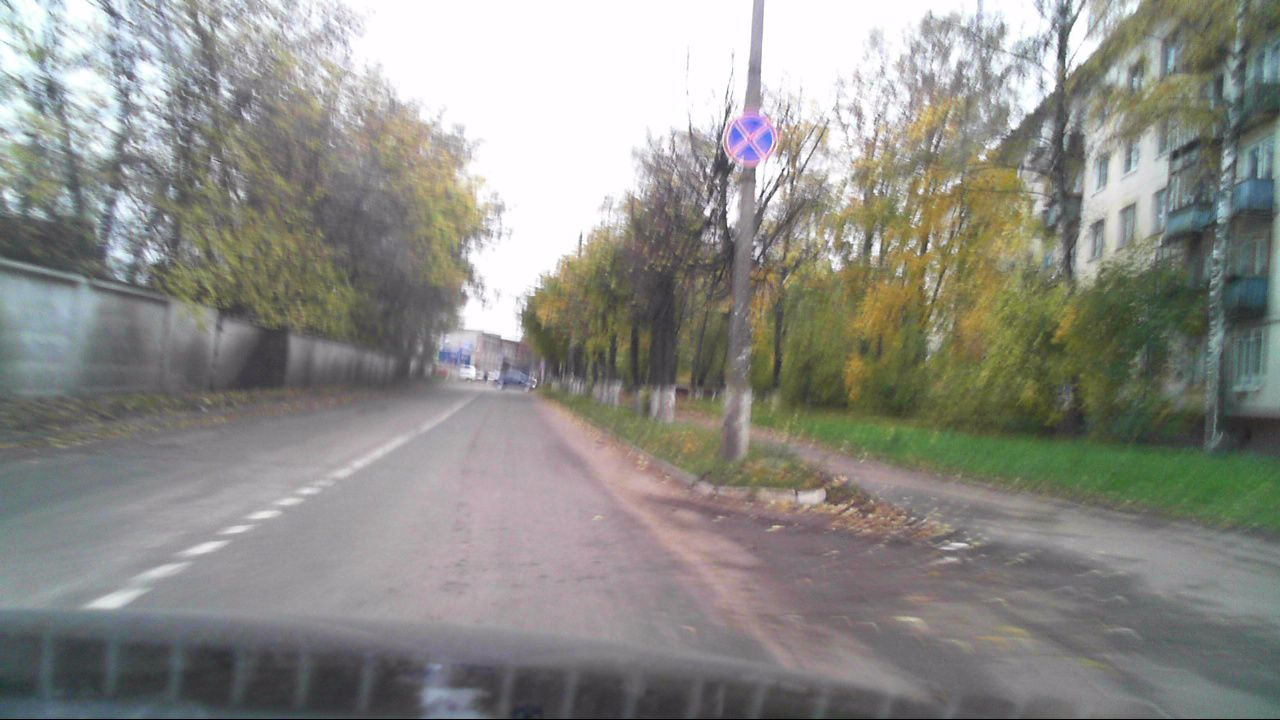No Parking: (723, 115, 775, 166)
